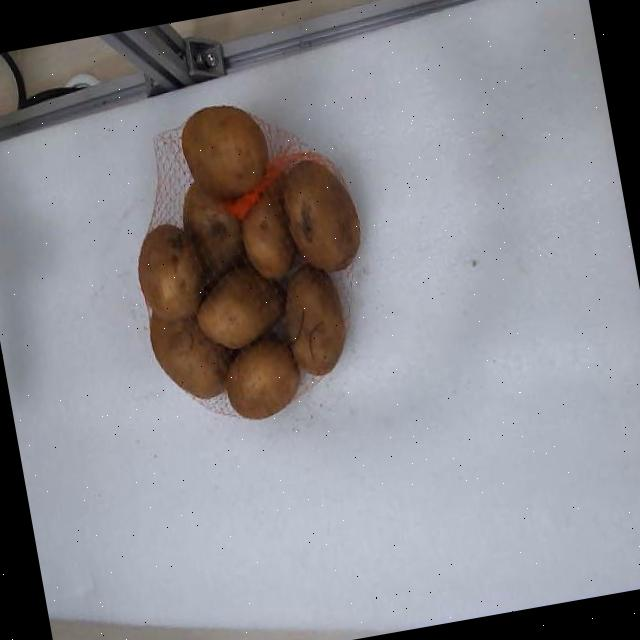potato: (282, 160, 358, 271), (181, 105, 267, 198), (195, 268, 284, 348), (285, 264, 345, 375), (150, 315, 229, 397), (137, 226, 202, 318), (225, 341, 299, 417), (183, 183, 242, 276), (240, 194, 292, 278)
